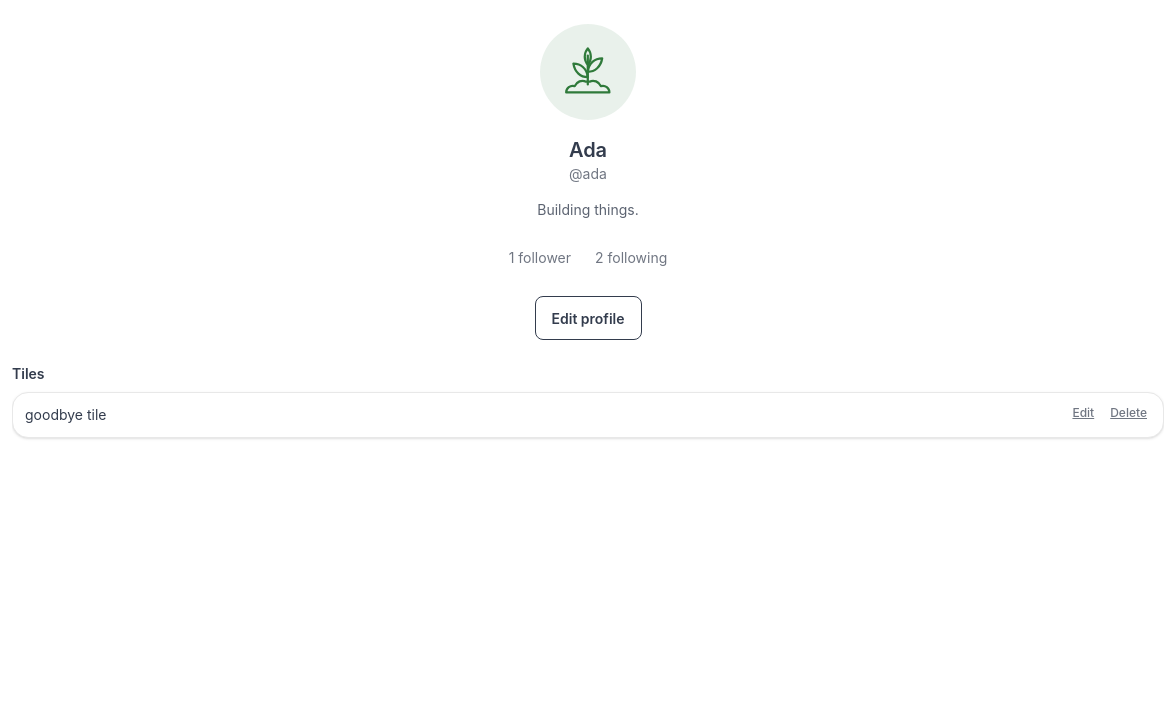
Test case: ProfilePage › deletes a tile after confirmation and confirms with a toast
expect the text "goodbye tile" is shown: met, box [25, 406, 106, 423]
Click the button "Delete" at (1129, 413), box [1102, 393, 1155, 433]
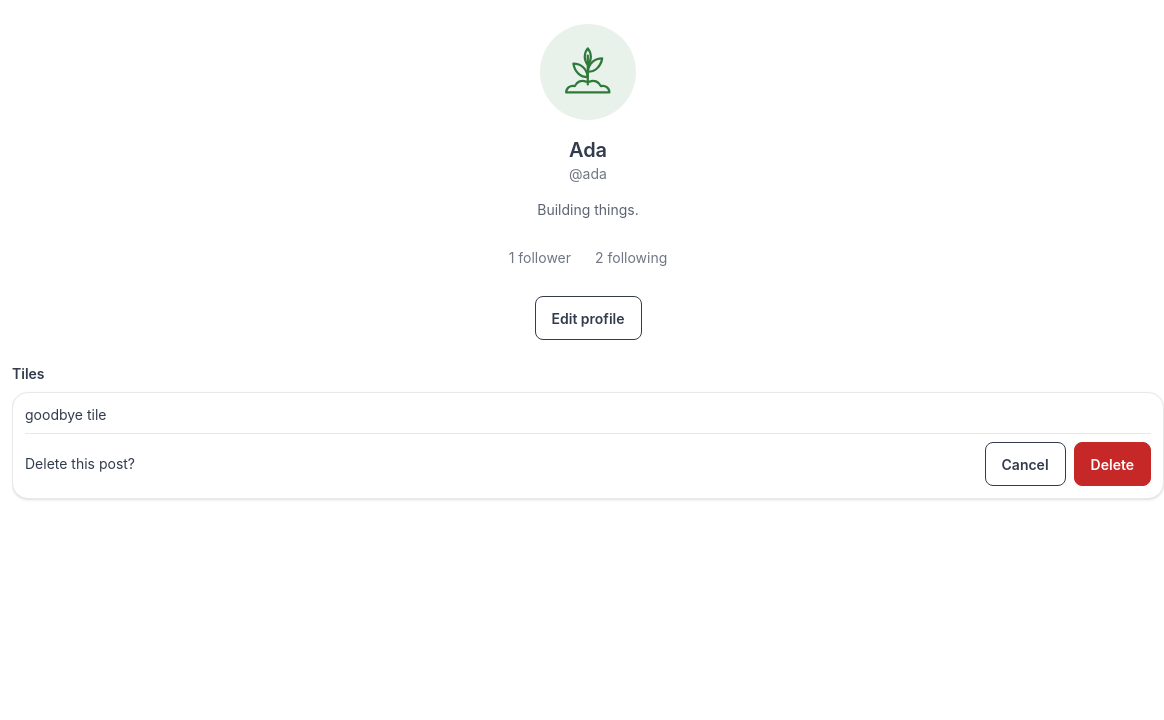
Click the button "Delete" at (1112, 464), box [1074, 442, 1151, 486]
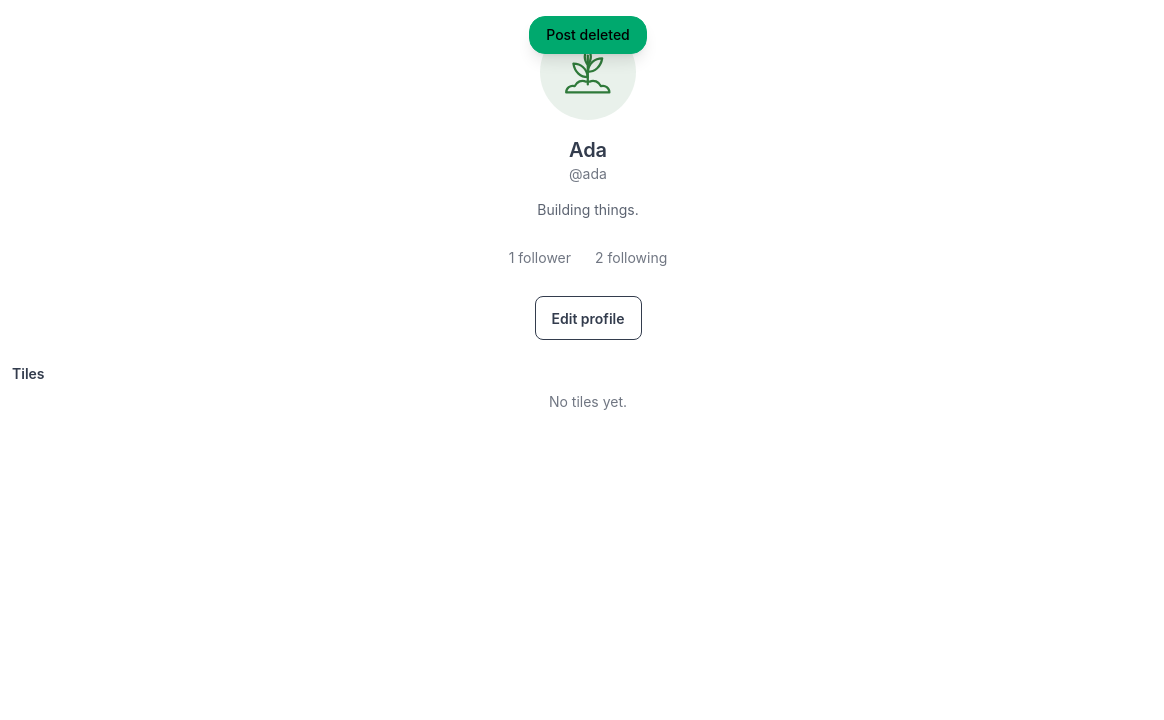
expect the text "goodbye tile" is gone: met
expect the message reads "Post deleted": met, box [546, 26, 630, 43]
expect the text "No tiles yet." is shown: met, box [549, 393, 627, 410]
